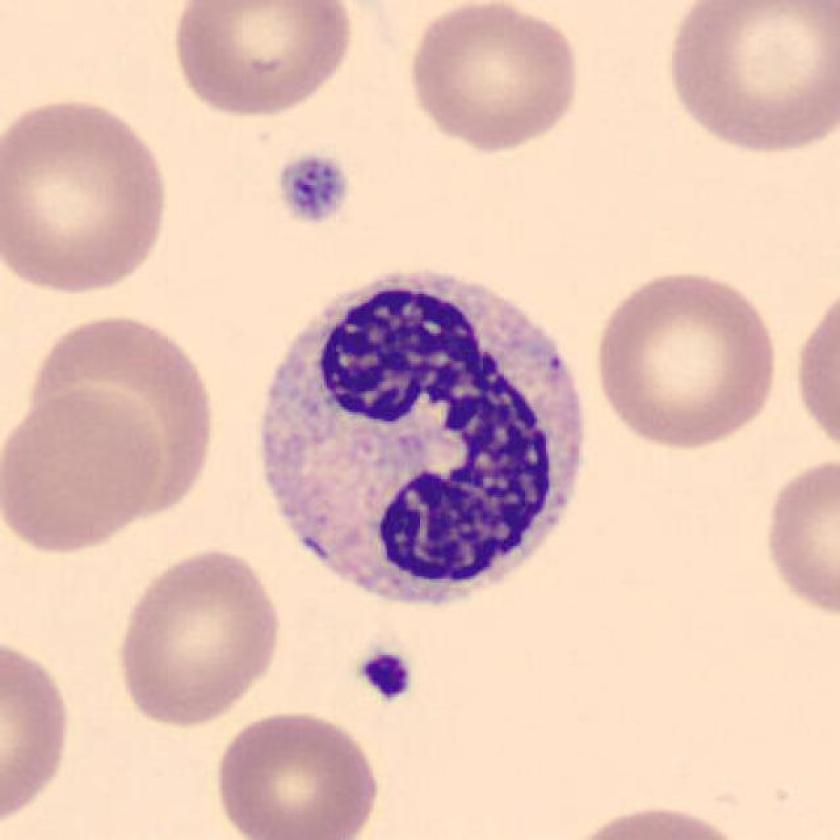neutrophil: (265, 269, 582, 603)
